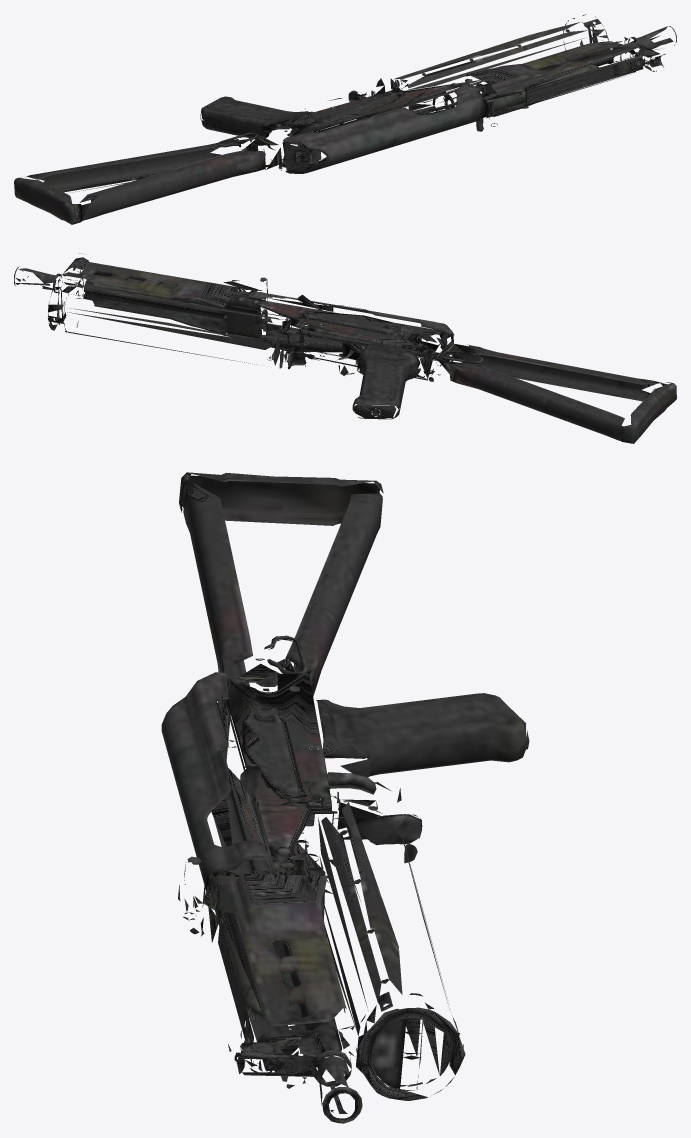
The model's file is w_bizon.glb.
The picture shows the model from 3 angles, top to bottom: view 1: azimuth 30°, elevation 25°; view 2: azimuth 150°, elevation 25°; view 3: azimuth 270°, elevation 25°; orthographic projection. The views are drawn at different scales.
Visible parts, largest first — view 1: w_bizon; view 2: w_bizon; view 3: w_bizon.
Part boxes in pixels (x1=…): w_bizon: x1=14, y1=14, x2=676, y2=224; w_bizon: x1=14, y1=253, x2=676, y2=443; w_bizon: x1=161, y1=472, x2=529, y2=1123.
Bounding box in the file's own units: 0.9801 × 0.106 × 0.2491.
Materials: 1 (1 with a texture image).
